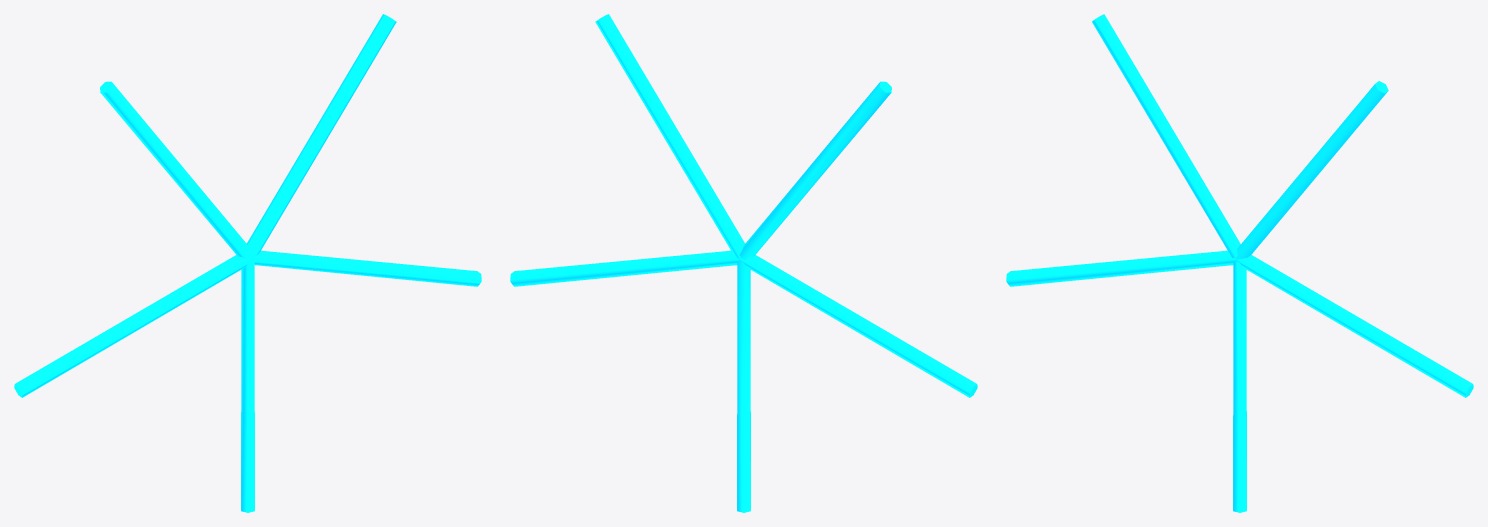
File: 2StageGeneric-CECStarLight.glb
3 renders of one model, left to right at view 1: azimuth 30°, elevation 25°; view 2: azimuth 150°, elevation 25°; view 3: azimuth 330°, elevation 25°, orthographic.
Parts seen in each view (by area): view 1: StarLight; view 2: StarLight; view 3: StarLight.
Part boxes in pixels (x1,y1,x2,y2): StarLight: (14, 14, 481, 512); StarLight: (510, 14, 977, 512); StarLight: (1006, 14, 1473, 512).
Bounding box in the file's own units: 1.36 × 1.29 × 0.0404.
